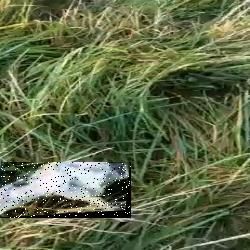plastic: (0, 162, 131, 218)
